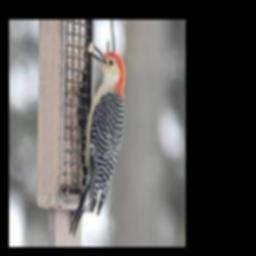Woodpecker: (70, 44, 125, 236)
